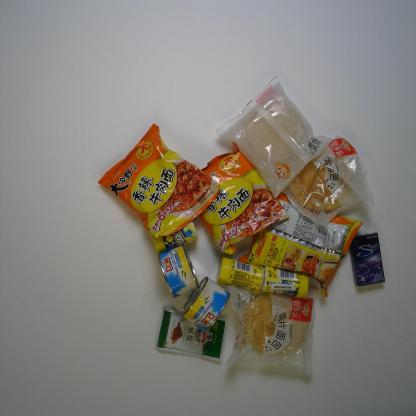Canned Food: (180, 273, 233, 335), (154, 242, 202, 301)
Dessert: (210, 71, 329, 201), (280, 131, 379, 228), (221, 282, 318, 380)
Gum: (346, 230, 387, 292), (213, 254, 267, 296), (257, 264, 312, 302), (149, 219, 203, 256)
Instant Noodles: (94, 121, 222, 241), (235, 190, 365, 299), (195, 140, 292, 258)
Seasoner: (151, 304, 230, 366)
